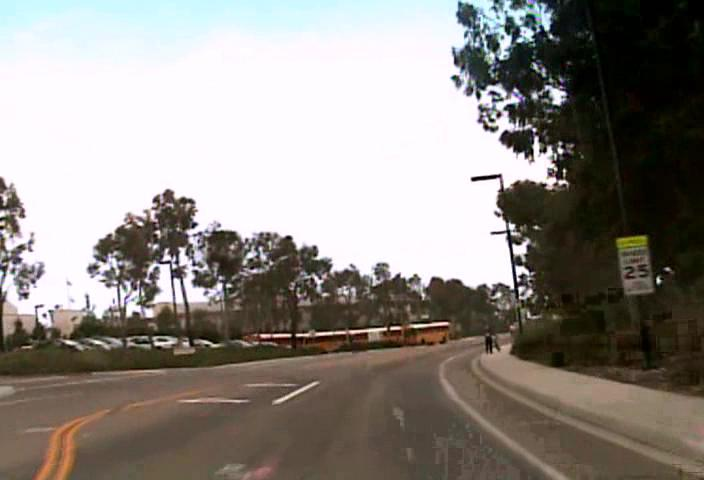schoolSpeedLimit25: (616, 235, 655, 295)
